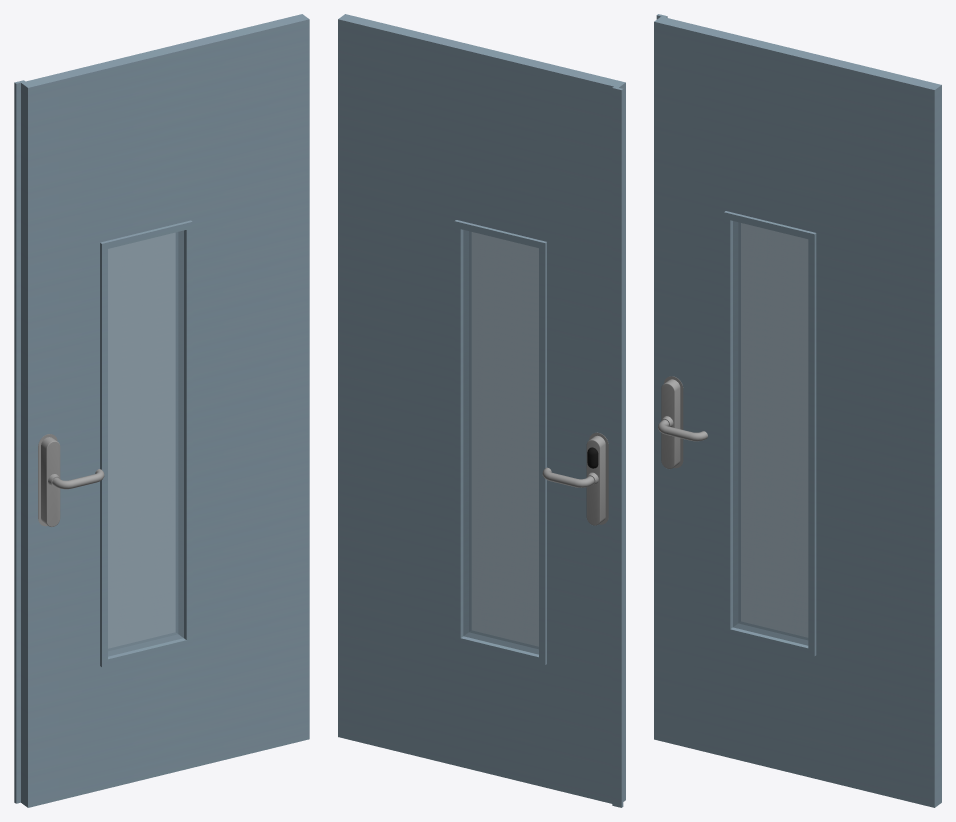
The model's file is LabDoorLeft.dae.
3 renders of one model, left to right at view 1: azimuth 30°, elevation 25°; view 2: azimuth 150°, elevation 25°; view 3: azimuth 330°, elevation 25°, orthographic.
Parts seen in each view (by area): view 1: LabDoorLeft-Pivot; view 2: LabDoorLeft-Pivot; view 3: LabDoorLeft-Pivot.
Part boxes in pixels (bbox=[...]): LabDoorLeft-Pivot: bbox=[14, 14, 309, 807]; LabDoorLeft-Pivot: bbox=[338, 14, 625, 807]; LabDoorLeft-Pivot: bbox=[654, 14, 941, 807].
Size of the model in its own units: 91.5 by 22.86 by 220.
Materials: 4 (4 with a texture image).
